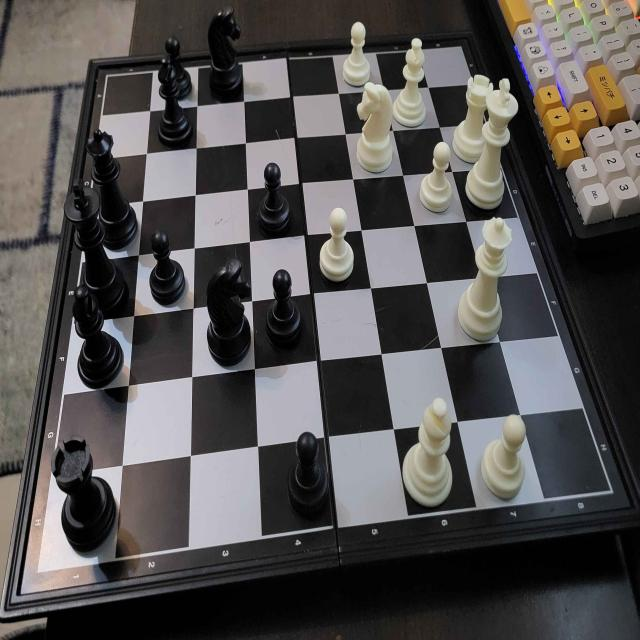black-bishop: (68, 283, 126, 396), (157, 57, 191, 149)
black-king: (63, 178, 128, 310)
black-knight: (200, 254, 256, 372), (206, 3, 244, 96)
black-pawn: (284, 424, 329, 520), (260, 264, 306, 354), (144, 228, 188, 310), (256, 158, 294, 236), (162, 34, 193, 94)
black-queen: (84, 123, 140, 248)
black-rook: (48, 430, 120, 557)
chess-board: (11, 34, 618, 592)
white-bishop: (399, 391, 456, 510), (392, 36, 428, 130)
white-king: (465, 75, 520, 219)
white-knight: (355, 80, 396, 182)
white-pawn: (478, 409, 531, 506), (318, 204, 355, 289), (418, 140, 456, 218), (341, 21, 375, 88)
white-queen: (456, 214, 516, 348)
white-rook: (451, 71, 494, 165)
